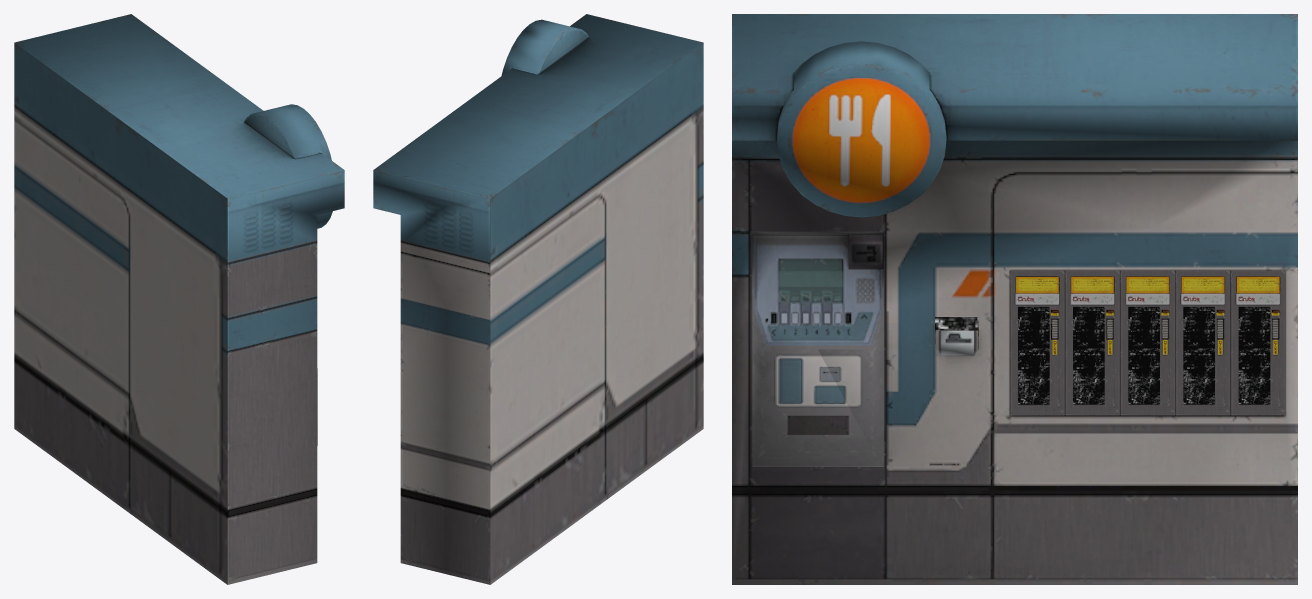
The model's file is FoodDispenser02.FBX.
The picture shows the model from 3 angles, left to right: view 1: azimuth 30°, elevation 25°; view 2: azimuth 150°, elevation 25°; view 3: azimuth 270°, elevation 25°; orthographic projection. The views are drawn at different scales.
Parts seen in each view (by area): view 1: FoodDispenser02; view 2: FoodDispenser02; view 3: FoodDispenser02.
Boxes of the visible parts, box(x1,y1,x2,y2) form: FoodDispenser02: box(14, 14, 344, 584); FoodDispenser02: box(373, 14, 703, 584); FoodDispenser02: box(732, 14, 1297, 584).
Size of the model in its own units: 0.6776 by 2.12 by 2.
